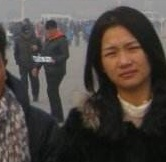person: (61, 8, 166, 160), (1, 24, 62, 162), (41, 20, 72, 121), (15, 25, 43, 103), (72, 20, 83, 48)
